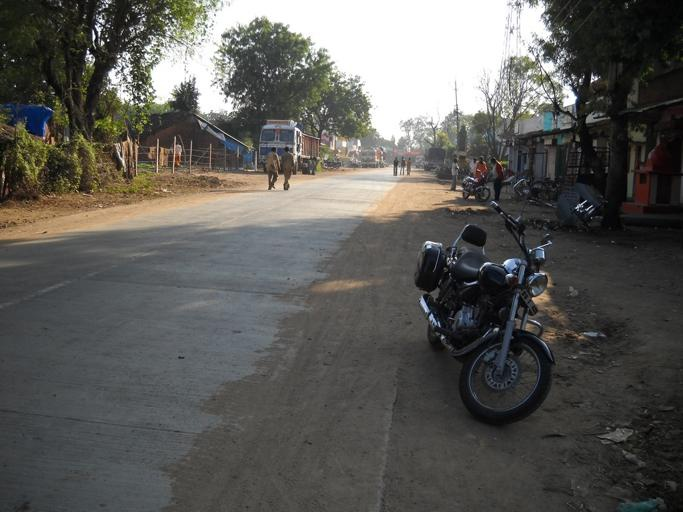non-vehicle: (414, 200, 555, 425), (461, 174, 490, 202)
